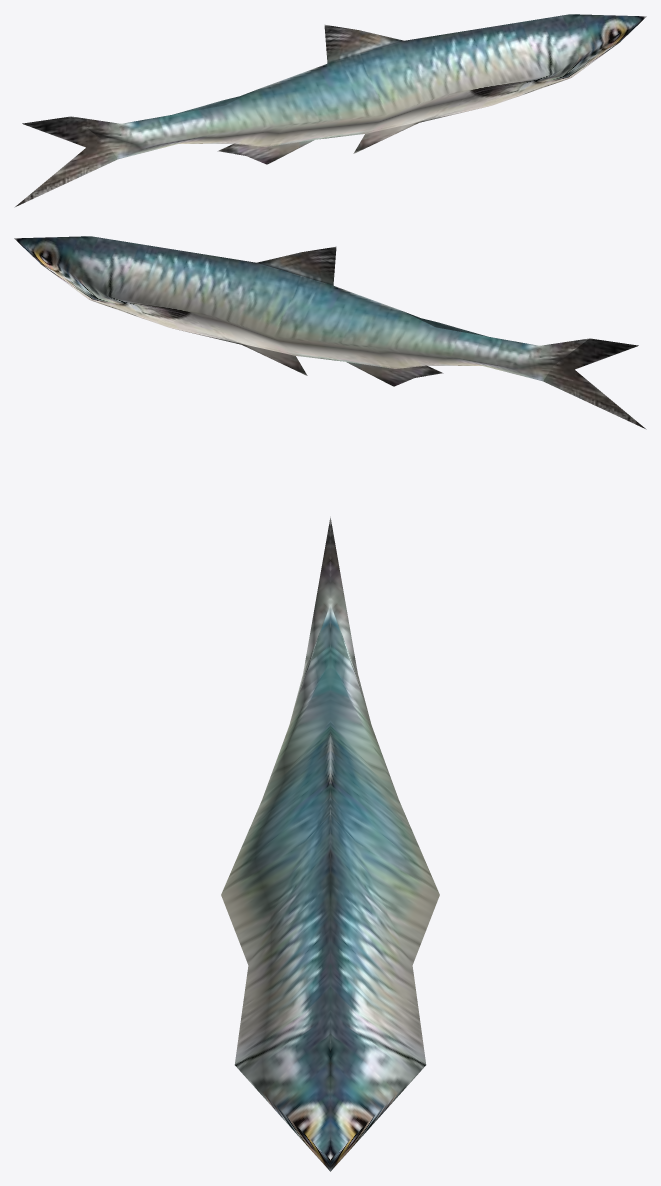
File: anchovy.obj
3 renders of one model, top to bottom at view 1: azimuth 30°, elevation 25°; view 2: azimuth 150°, elevation 25°; view 3: azimuth 270°, elevation 25°, orthographic. The views are drawn at different scales.
Bounding box in the file's own units: 2.74 × 0.5656 × 0.4107.
Materials: 1 (1 with a texture image).
